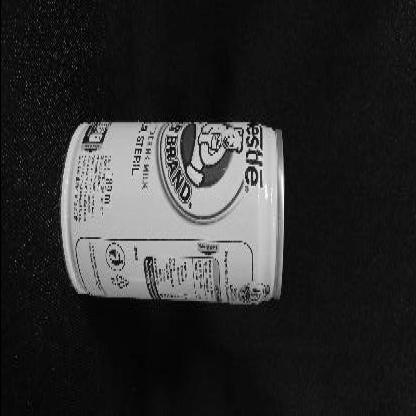alumunium_can: (58, 121, 283, 306)
